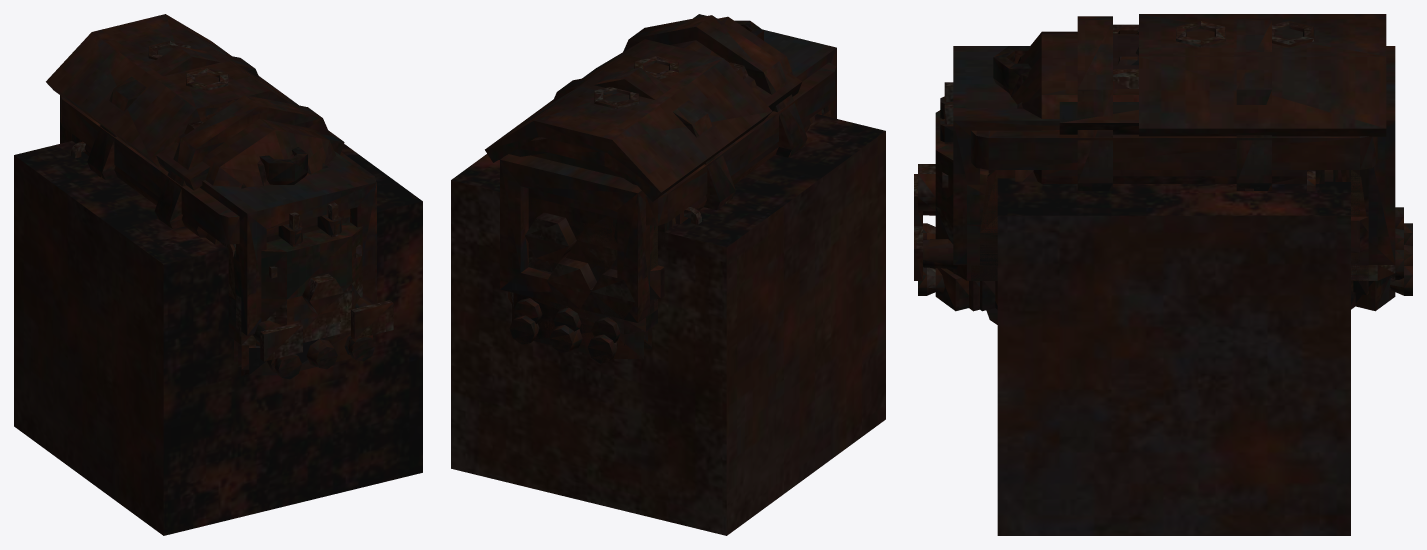
Rendered from pociagi_rdza.glb.
3 views of the same model, side by side, from view 1: azimuth 30°, elevation 25°; view 2: azimuth 150°, elevation 25°; view 3: azimuth 270°, elevation 25° (orthographic). The views are drawn at different scales.
Parts seen in each view (by area): view 1: Cube, train-diesel-box-a, train-locomotive-a, train-carriage-tank, cargo.003, train-carriage-coal, train-diesel-a; view 2: Cube, train-locomotive-a, cargo.003, train-carriage-coal, train-carriage-tank, cargo, train-diesel-box-a, train-carriage-container-blue; view 3: Cube, train-locomotive-a, train-carriage-tank, train-diesel-box-a, train-carriage-coal, cargo.003, train-diesel-a, train-carriage-container-blue.
Boxes of the visible parts, x1,y1,x2,y2 form: Cube: (14,141,422,535); train-diesel-box-a: (71,41,393,379); train-locomotive-a: (46,14,307,366); train-carriage-tank: (84,46,335,237); cargo.003: (60,95,376,335); train-carriage-coal: (60,96,376,372); train-diesel-a: (206,113,237,361); Cube: (451,114,885,535); train-locomotive-a: (485,20,772,342); cargo.003: (500,14,836,322); train-carriage-coal: (509,62,836,363); train-carriage-tank: (552,15,810,218); cargo: (525,212,634,319); train-diesel-box-a: (499,56,830,310); train-carriage-container-blue: (508,291,622,363); Cube: (997,178,1350,535); train-locomotive-a: (944,14,1403,311); train-carriage-tank: (1009,16,1308,190); train-diesel-box-a: (914,21,1359,311); train-carriage-coal: (971,130,1412,265); cargo.003: (940,46,1395,264); train-diesel-a: (980,30,1386,309); train-carriage-container-blue: (935,245,1412,311).
Bounding box in the file's own units: 2 × 2.75 × 2.82.
1 material, 1 textured.
